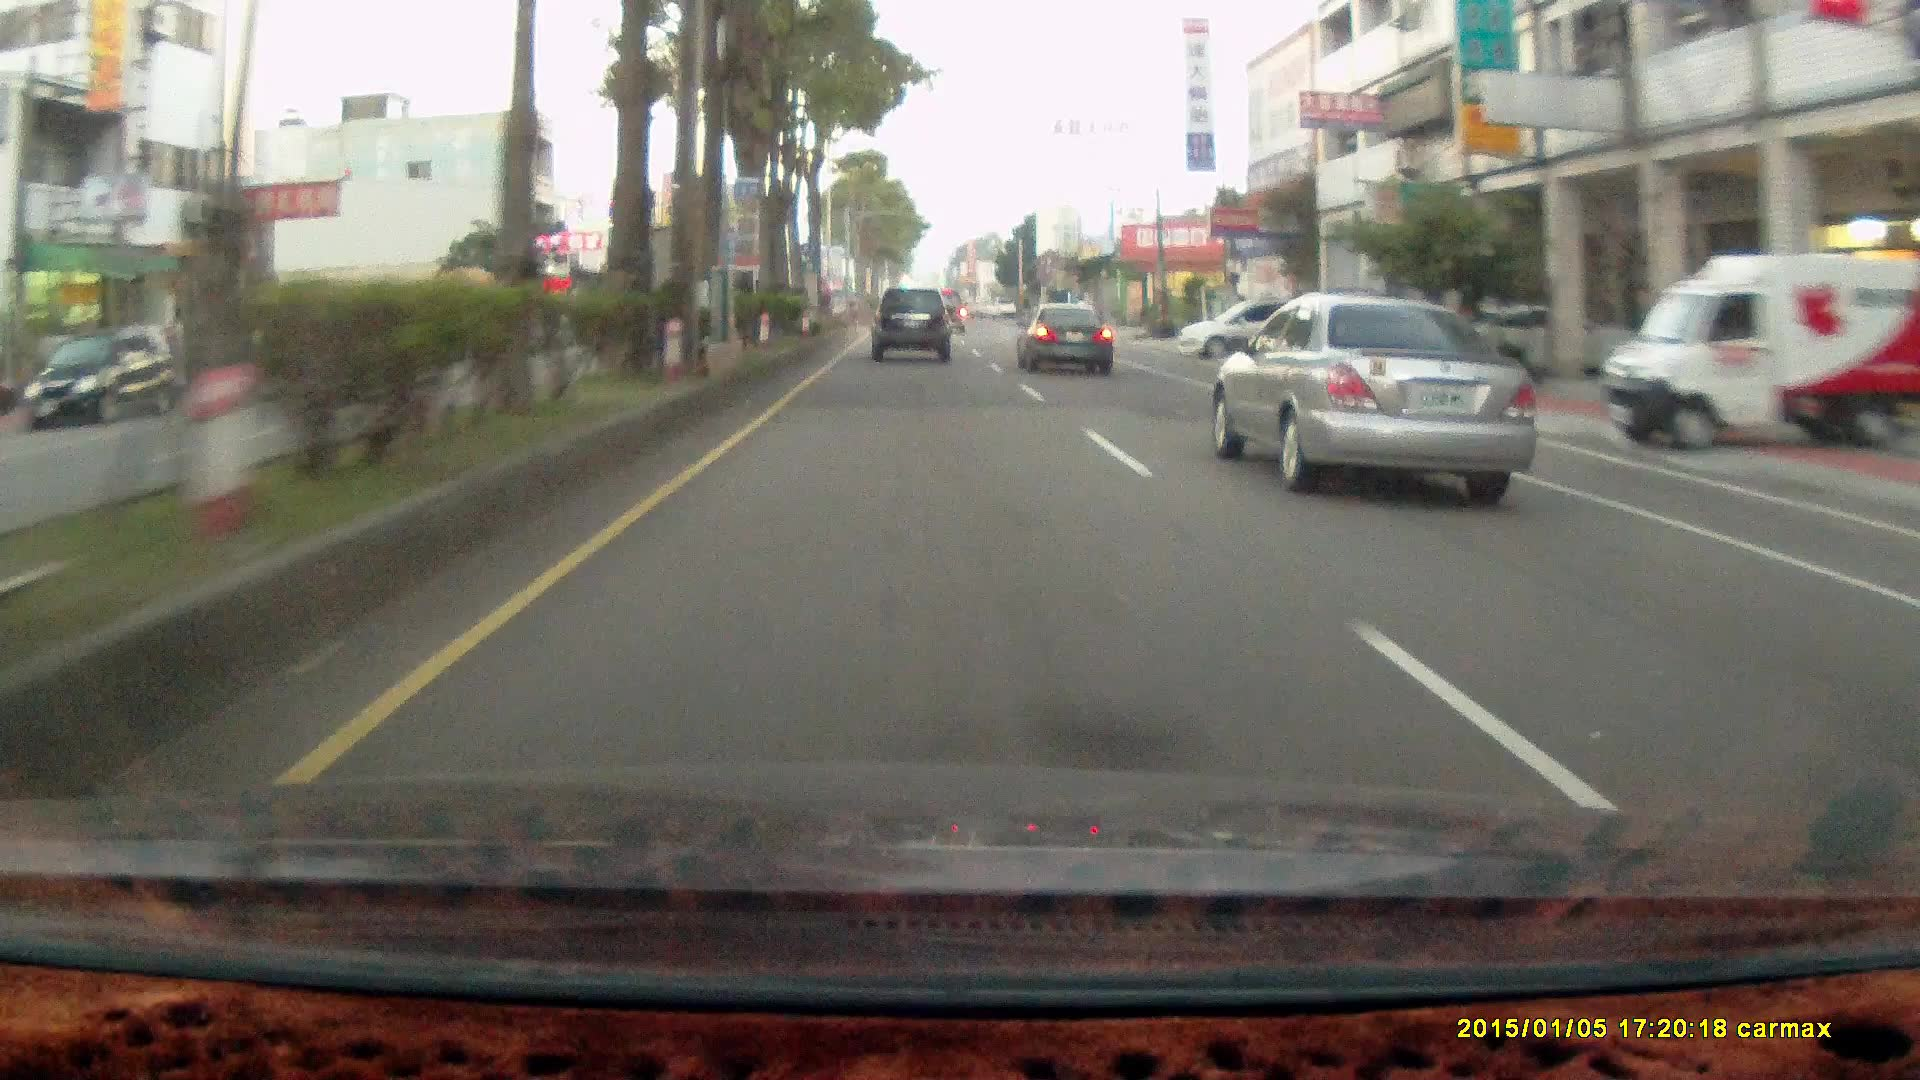vehicle: (1218, 290, 1545, 489), (1606, 251, 1920, 448), (21, 327, 196, 433), (1428, 301, 1636, 378), (24, 330, 181, 430), (1287, 285, 1425, 380), (1178, 302, 1333, 367), (1176, 301, 1331, 364), (1015, 301, 1120, 377), (1015, 301, 1113, 375), (872, 287, 955, 364), (869, 284, 949, 359)
